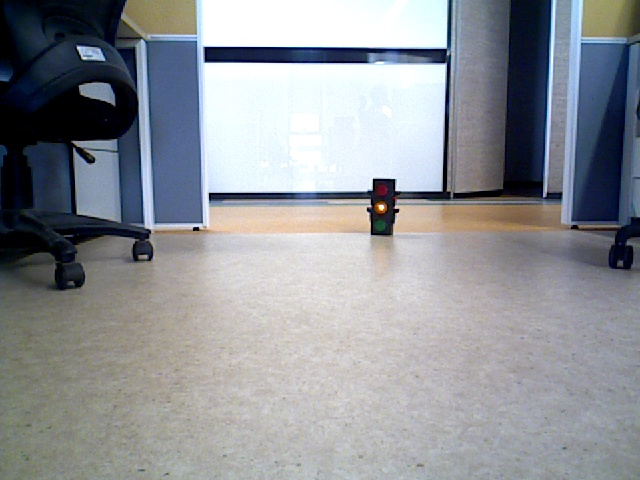yellow: (371, 181, 391, 233)
